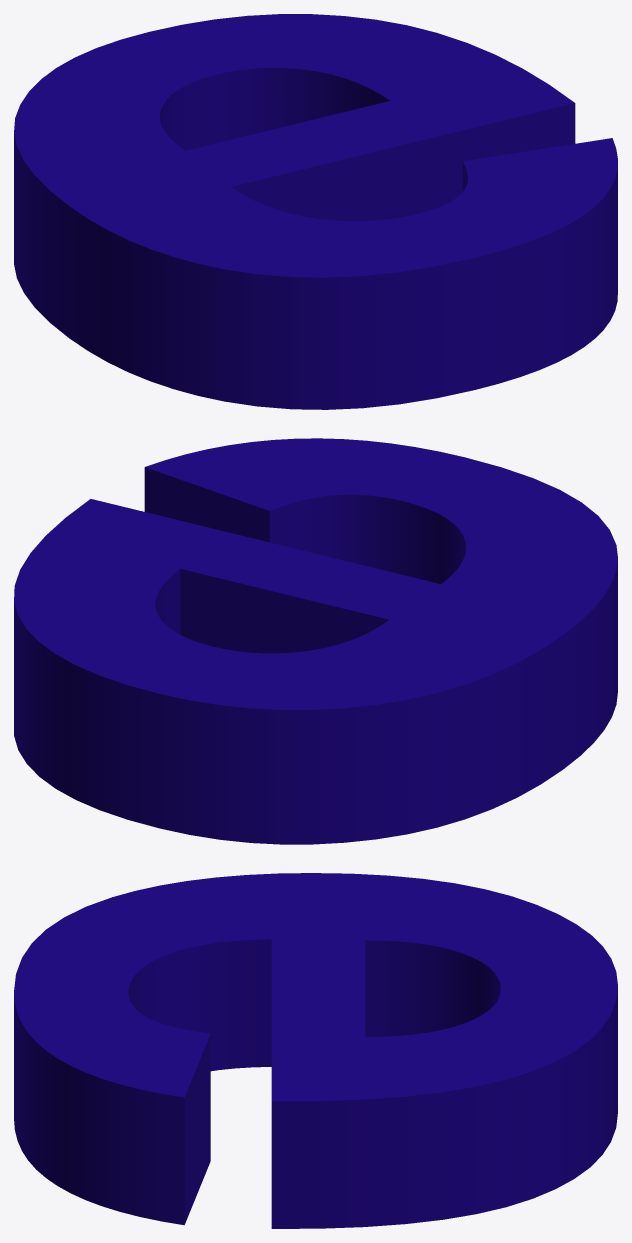
The model's file is huruf e biasa 1.FBX.
3 renders of one model, top to bottom at view 1: azimuth 30°, elevation 25°; view 2: azimuth 150°, elevation 25°; view 3: azimuth 270°, elevation 25°, orthographic. The views are drawn at different scales.
Parts seen in each view (by area): view 1: Text001; view 2: Text001; view 3: Text001.
Part boxes in pixels (x1,y1,x2,y2): Text001: (14,14,617,409); Text001: (14,438,617,844); Text001: (14,873,617,1228).
Size of the model in its own units: 24.96 by 6.5 by 27.89.
